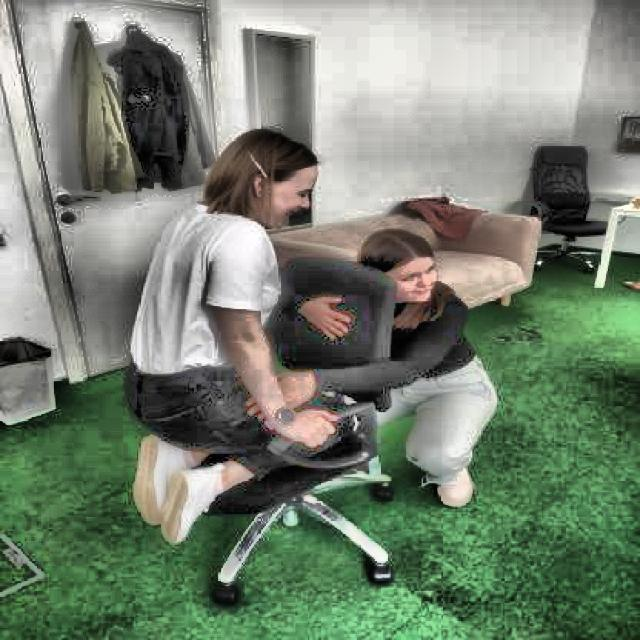cadeira: (149, 252, 408, 608)
